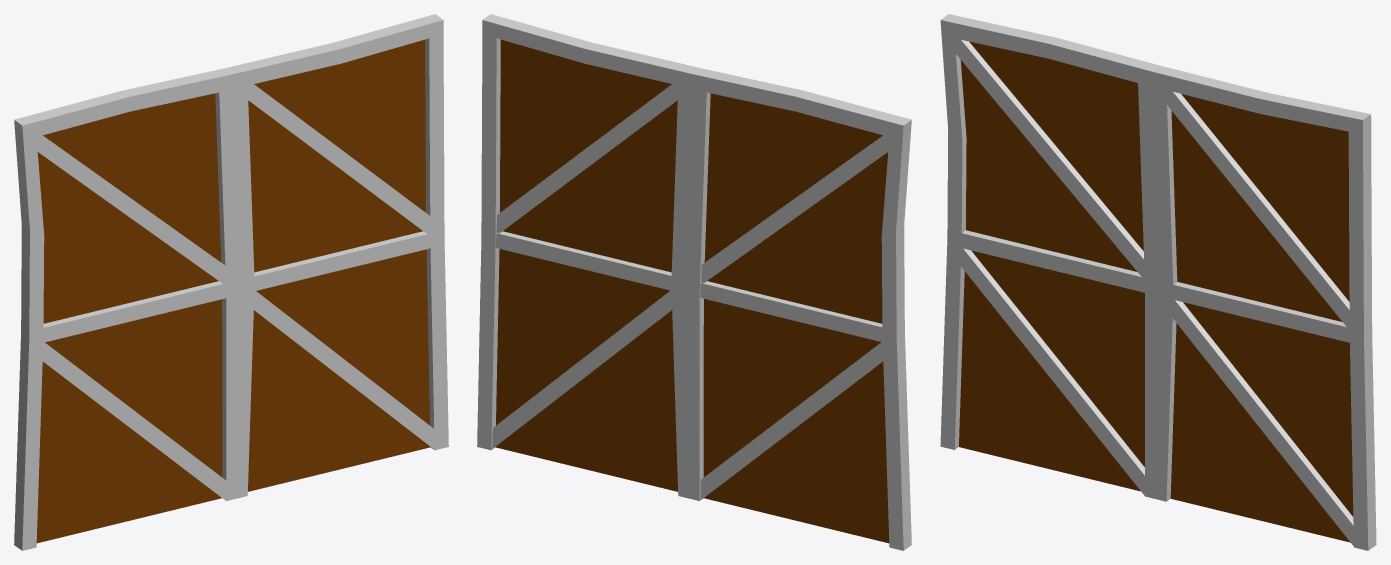
File: SM_Farm_Door_Big.fbx
The picture shows the model from 3 angles, left to right: view 1: azimuth 30°, elevation 25°; view 2: azimuth 150°, elevation 25°; view 3: azimuth 330°, elevation 25°; orthographic projection.
Visible parts, largest first — view 1: SM_Farm_Door_Big; view 2: SM_Farm_Door_Big; view 3: SM_Farm_Door_Big.
Boxes of the visible parts, x1,y1,x2,y2 form: SM_Farm_Door_Big: (14,14,448,550); SM_Farm_Door_Big: (477,14,911,550); SM_Farm_Door_Big: (940,14,1376,550).
Size of the model in its own units: 424 by 407 by 14.14.
